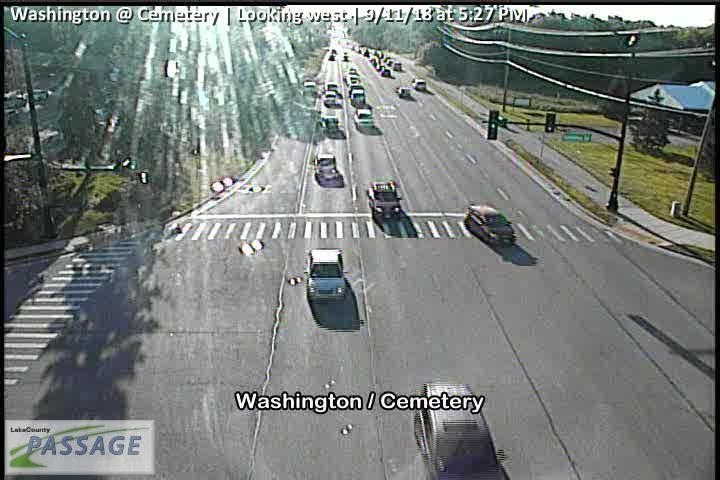SUV: (412, 380, 511, 480), (463, 203, 517, 247), (365, 179, 404, 222), (312, 152, 339, 180), (351, 108, 376, 132), (320, 116, 341, 136), (350, 88, 366, 106), (395, 84, 411, 99), (413, 77, 428, 92), (323, 92, 335, 107), (379, 68, 391, 78), (394, 62, 403, 71), (328, 54, 337, 61), (342, 55, 349, 61)
Sedan: (305, 247, 348, 302)
